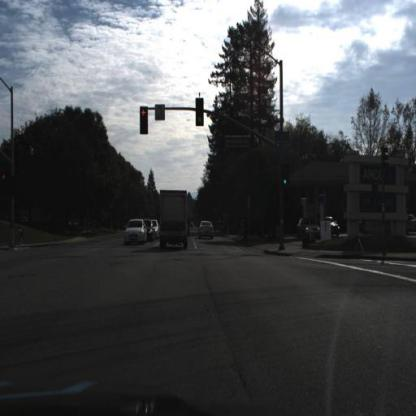car: (295, 213, 322, 241), (123, 218, 148, 246), (196, 218, 217, 243), (326, 213, 343, 241)
trafficLight-Green: (197, 102, 203, 127), (282, 167, 289, 187)
trafficLight-RedLeft: (141, 107, 149, 135)
truck: (157, 185, 190, 254)
